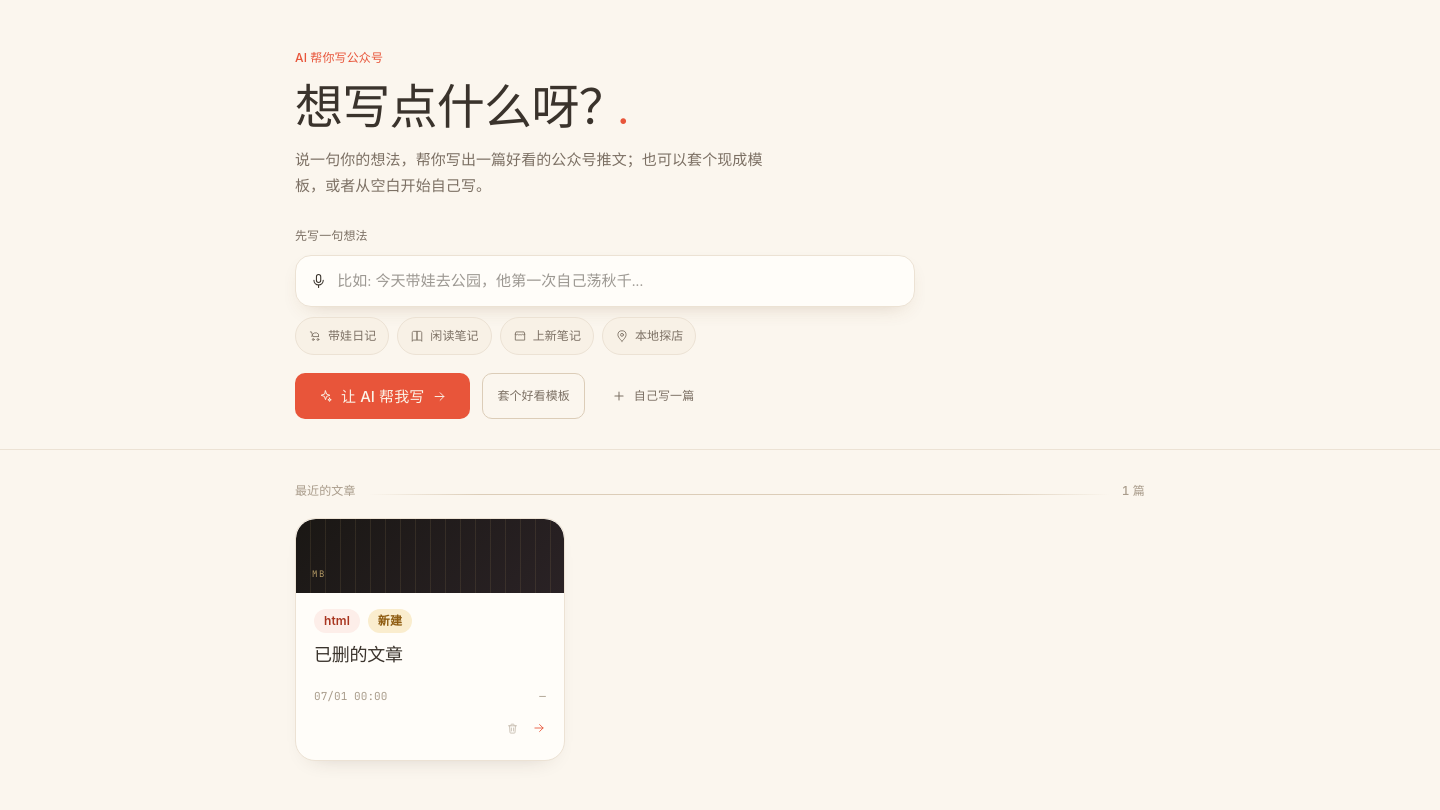
HomeSurface · 回收站入口(可达性回归:不许再挂到孤儿 ArticleList) › 删除确认文案反映软删语义(可恢复,不说无法撤销)
Click the button named "删除文章 已删的文章": click(512, 728) [499, 715, 526, 742]
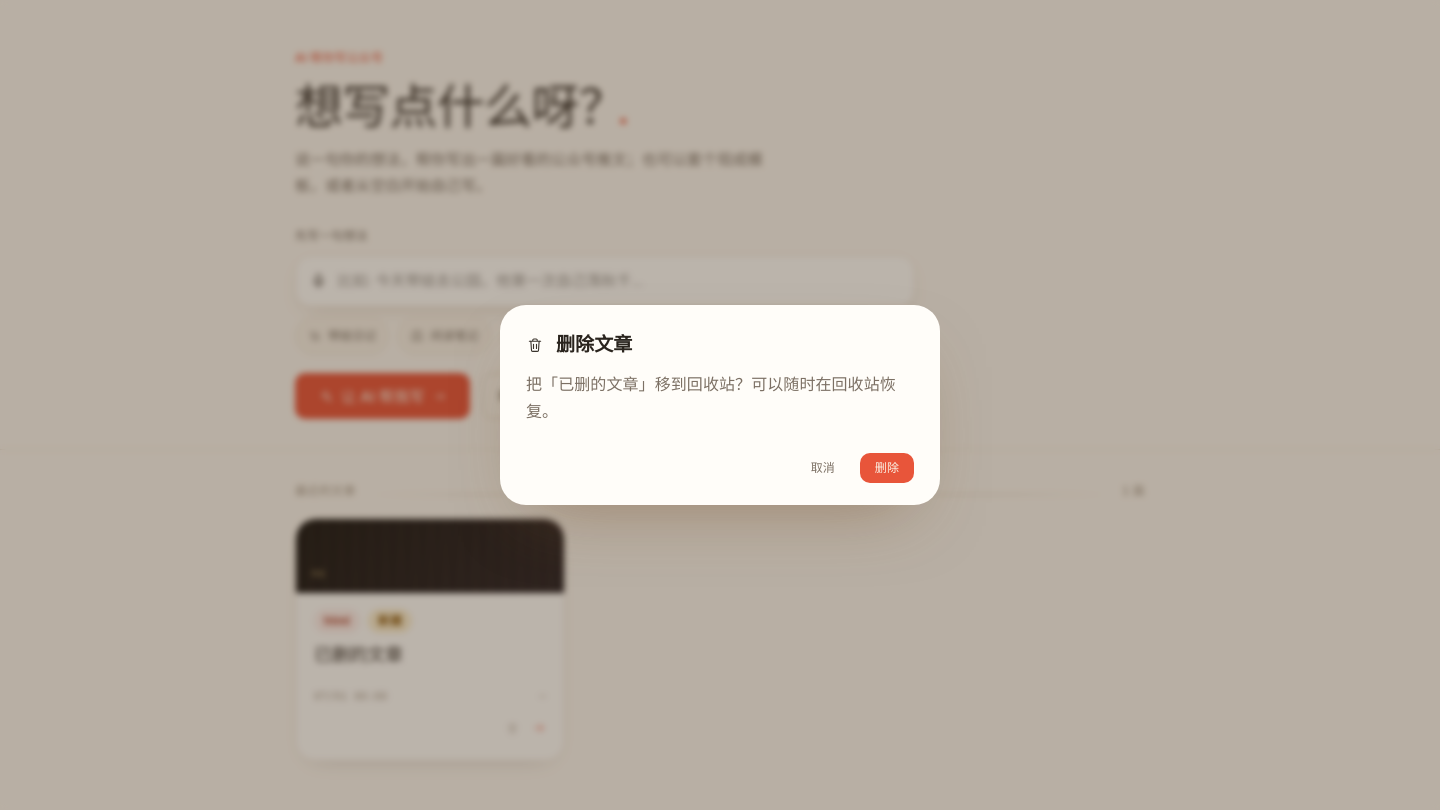
Check: the text "把「已删的文章」移到回收站？可以随时在回收站恢复。" is shown, box [526, 371, 914, 426]
